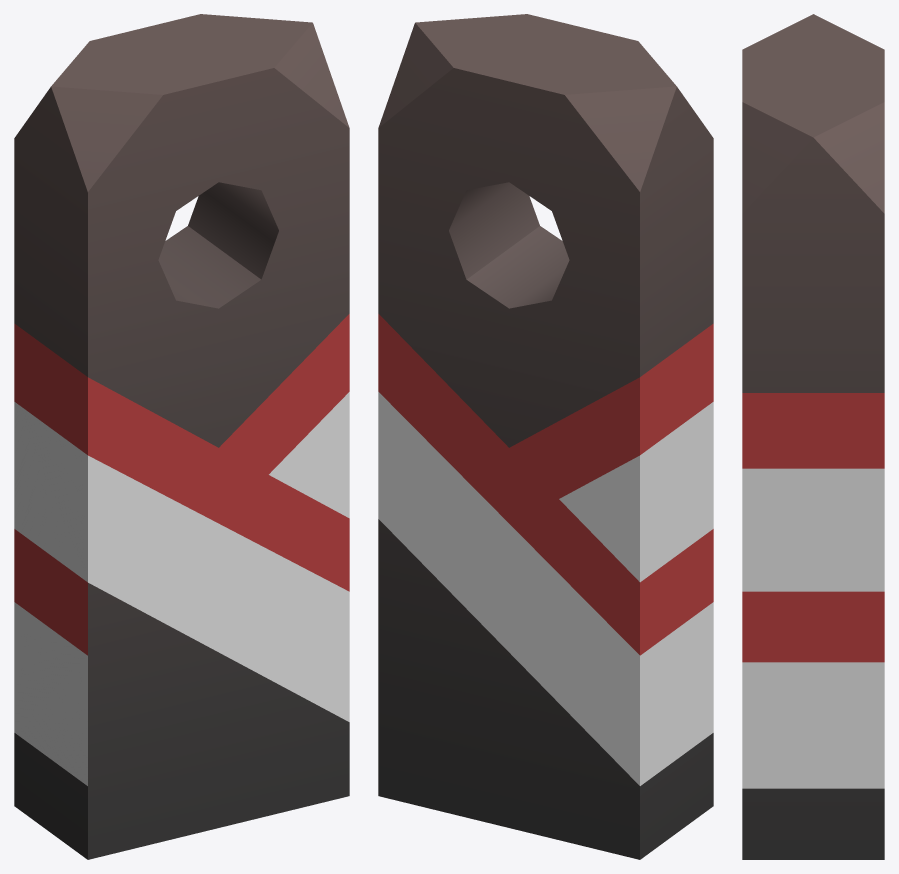
Rendered from totemG_air03.FBX.
3 views of the same model, side by side, from view 1: azimuth 30°, elevation 25°; view 2: azimuth 150°, elevation 25°; view 3: azimuth 270°, elevation 25° (orthographic). The views are drawn at different scales.
Parts seen in each view (by area): view 1: totemG_air03; view 2: totemG_air03; view 3: totemG_air03.
Part boxes in pixels (left/top/right/bottom): totemG_air03: left=14, top=14, right=349, bottom=859; totemG_air03: left=378, top=14, right=713, bottom=859; totemG_air03: left=742, top=14, right=884, bottom=859.
Size of the model in its own units: 10.45 by 28.46 by 5.09.
